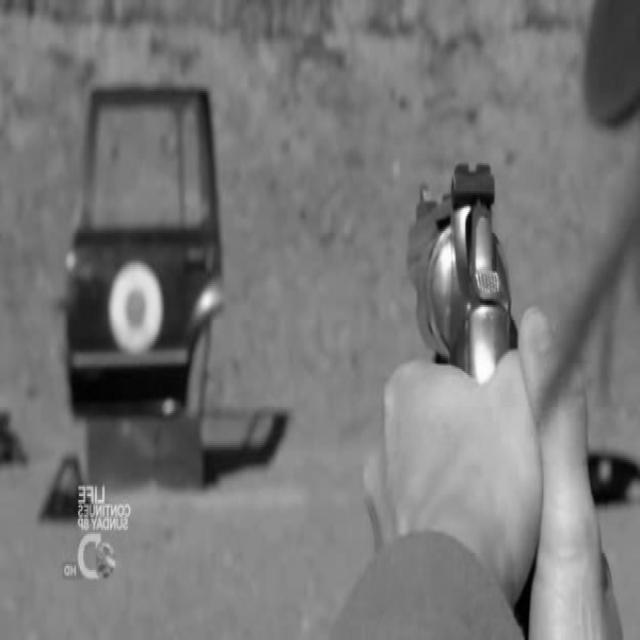weapons: (389, 110, 543, 518)
